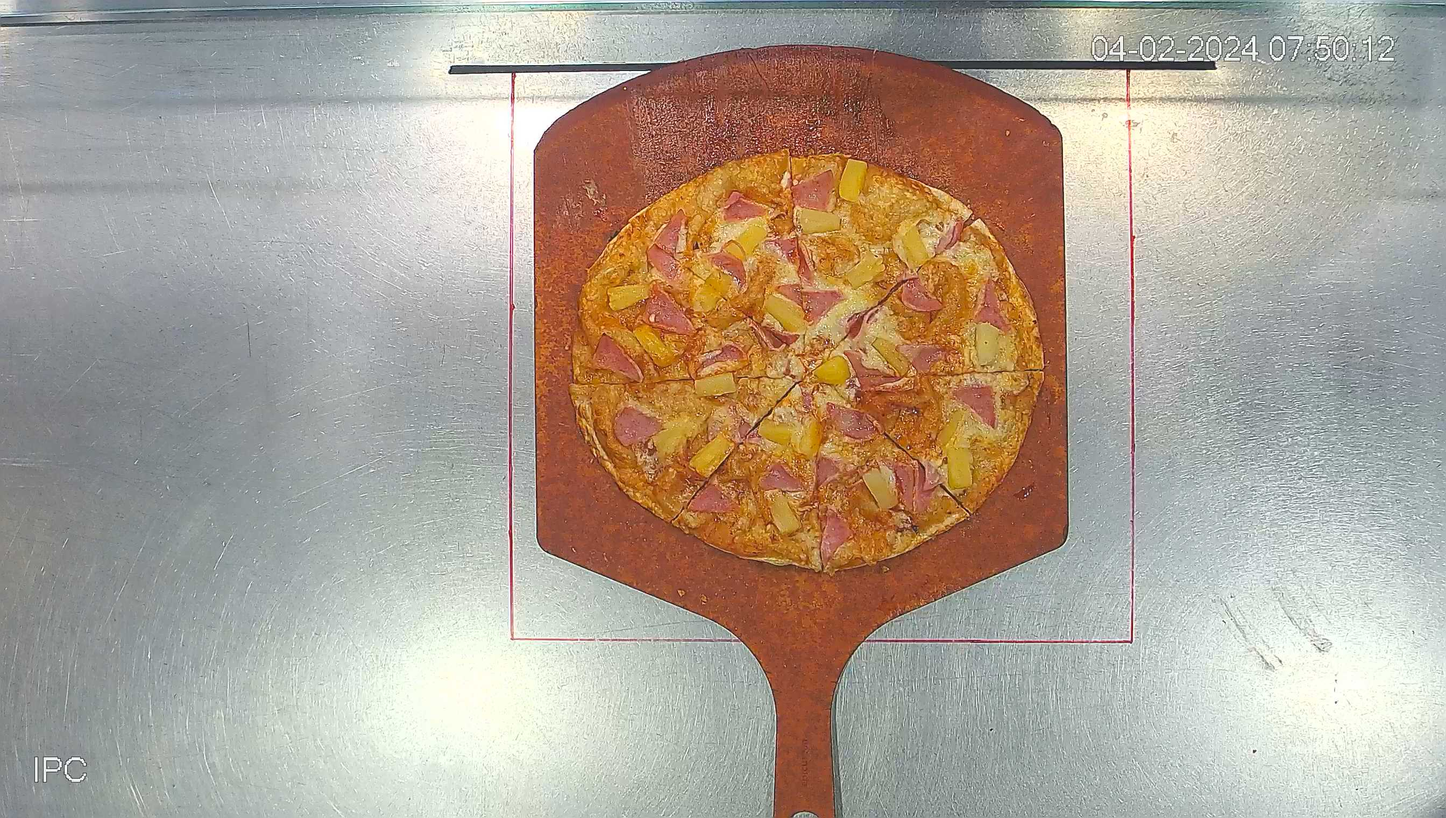manager_choice: (571, 149, 1049, 573)
